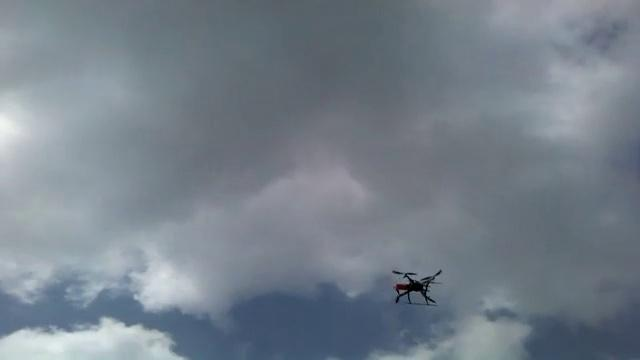drone: (388, 262, 449, 308)
